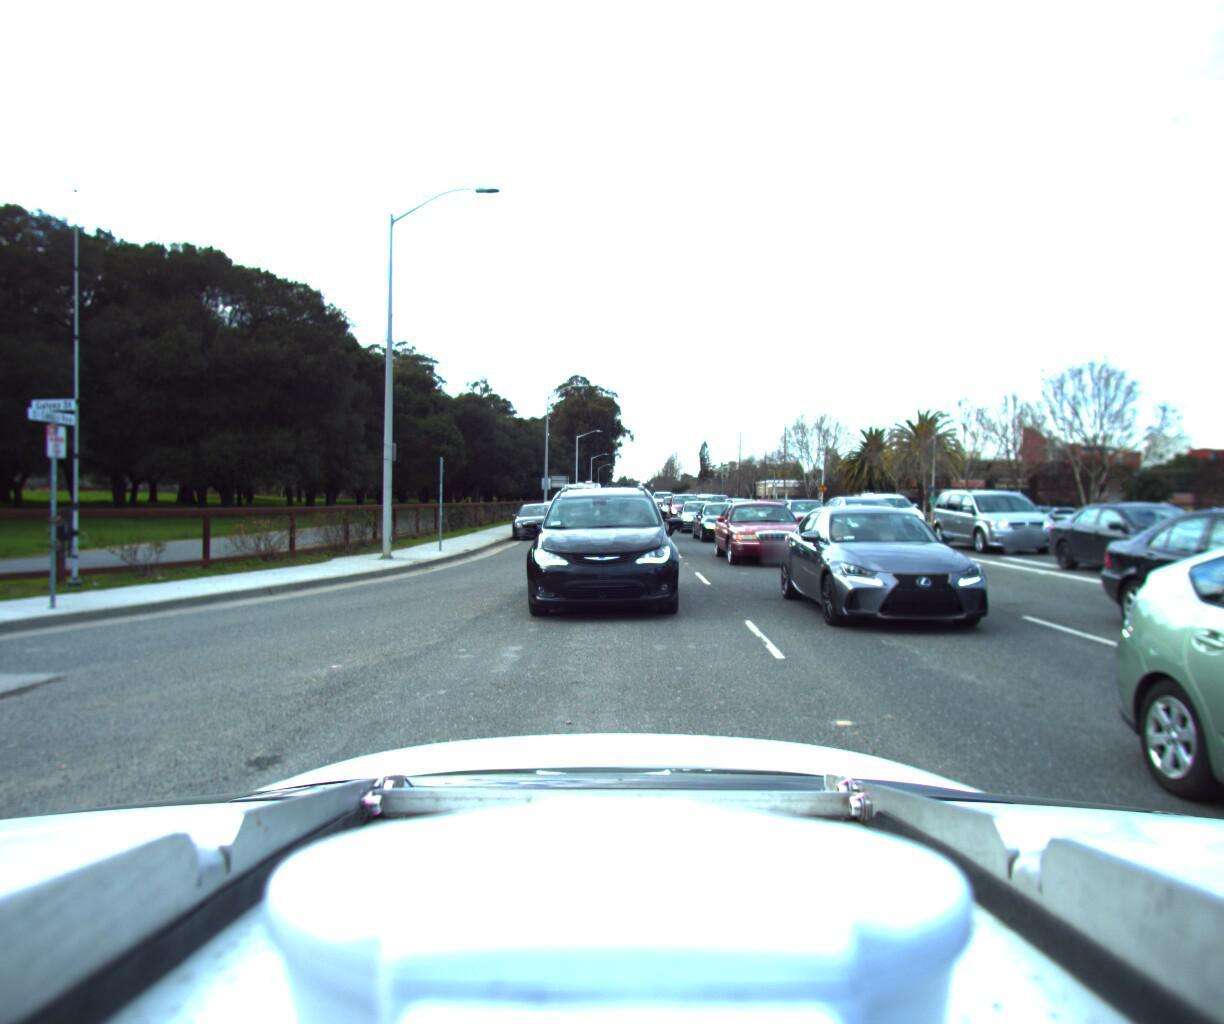car: (1102, 508, 1224, 1024), (774, 494, 1016, 646), (1098, 506, 1224, 720), (508, 475, 682, 627), (1037, 495, 1224, 584), (922, 480, 1064, 550), (706, 493, 817, 567), (810, 486, 916, 545), (848, 484, 932, 533), (1160, 498, 1224, 552), (770, 499, 841, 543), (689, 494, 751, 541), (504, 495, 559, 537), (670, 494, 717, 531), (739, 491, 790, 525), (663, 491, 700, 522), (656, 493, 685, 520), (645, 484, 670, 513), (1216, 500, 1224, 543)
other_vehicle: (554, 474, 599, 505)
